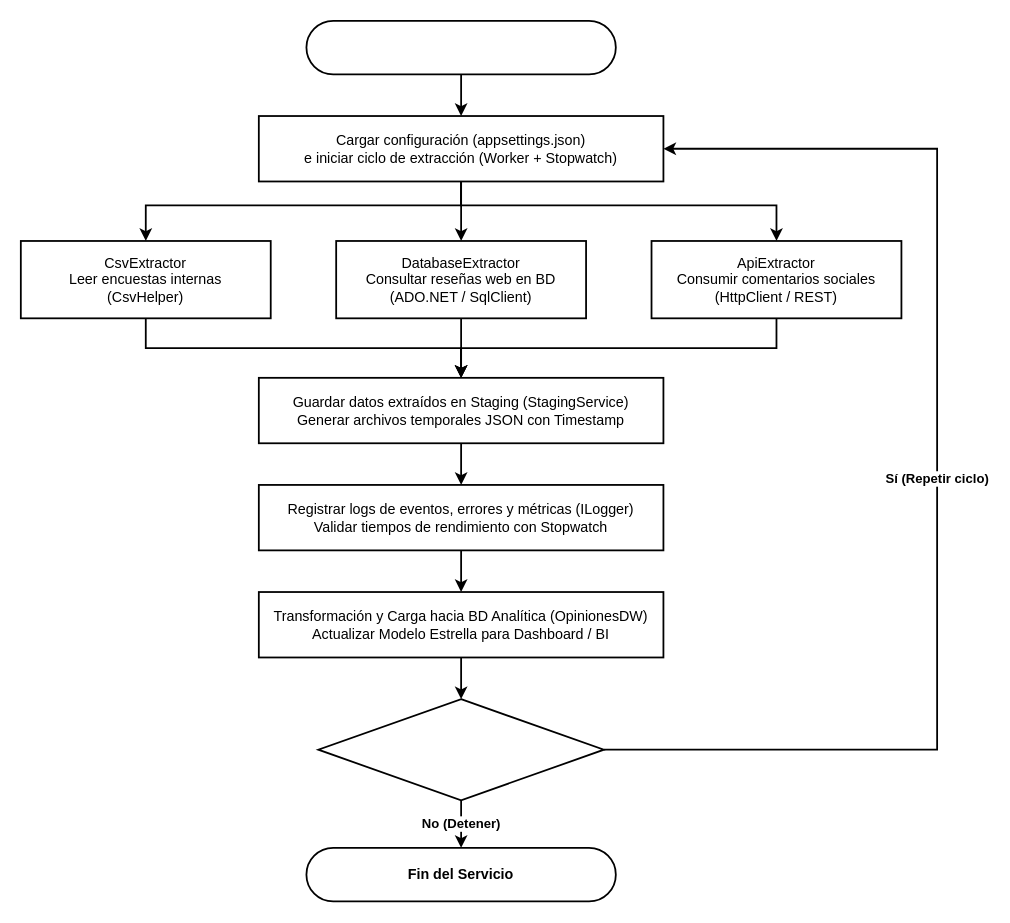
Image size: 1010x923. Some labels were removed from this diagram. The shapes that lost their labels are listed below. From the top down, each one's centre as x and y in pixels, then its label:
At pixel 460 47: "Inicio del Worker Service (.NET 8)".
At pixel 460 749: "¿Esperar siguiente ciclo? (Task.Delay)".
